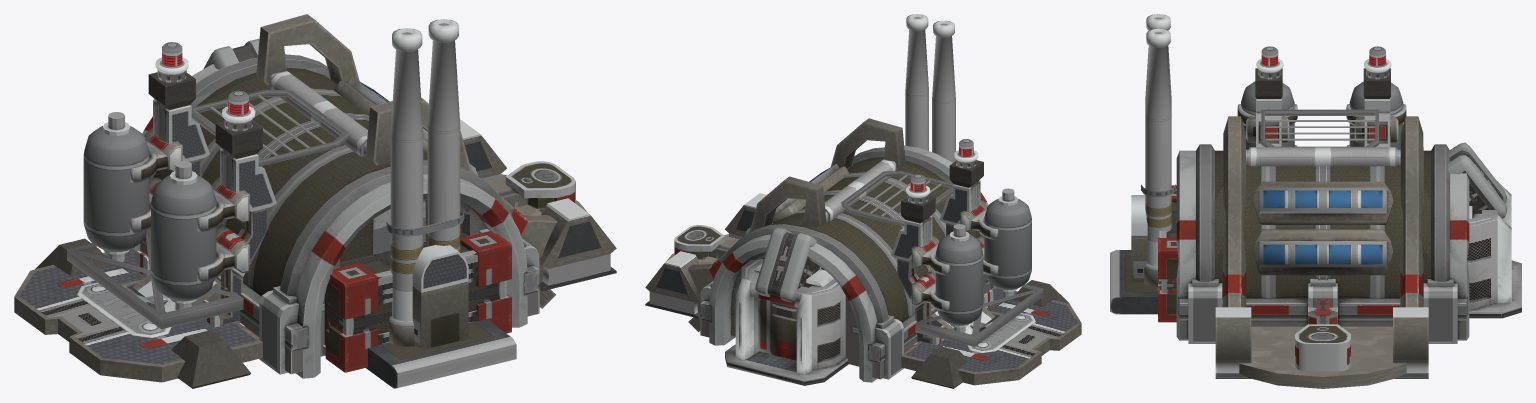
Rendered from Building - 10-ChD9XYcD.glb.
3 renders of one model, left to right at view 1: azimuth 30°, elevation 25°; view 2: azimuth 150°, elevation 25°; view 3: azimuth 270°, elevation 25°, orthographic. The views are drawn at different scales.
Visible parts, largest first — view 1: Main_form_08, Tube_08, Pad_08, block2, Extras_03b, Extras_03b (1), Fence_04, Pillar_01, Pylon_06, Pillar_02 (1), Detail_07, Column_04 (+18 smaller); view 2: Main_form_08, Door_02_frame, Pad_08, Tube_08, Extras_03b, Extras_03b (1), box4, Column_04, Pylon_06 (1), Pillar_02, Door_02, Detail_07 (+14 smaller); view 3: Main_form_08, Simlpe_form_08, Windows_01, Windows_01 (1), Tube_08, Door_02_frame, Column_04, Column_04 (1), Pylon_07, Pillar_02 (1), Detail_03, Pillar_02 (+13 smaller).
Boxes of the visible parts, bbox=[...] form: Main_form_08: bbox=[134, 54, 539, 378]; Tube_08: bbox=[390, 19, 460, 320]; Pad_08: bbox=[14, 248, 262, 382]; block2: bbox=[322, 229, 511, 372]; Extras_03b: bbox=[83, 126, 149, 251]; Extras_03b (1): bbox=[151, 175, 216, 301]; Fence_04: bbox=[366, 319, 516, 388]; Pillar_01: bbox=[412, 245, 468, 350]; Pylon_06: bbox=[203, 121, 276, 327]; Pillar_02 (1): bbox=[539, 198, 616, 290]; Detail_07: bbox=[67, 229, 243, 329]; Column_04: bbox=[256, 14, 359, 85]; Main_form_08: bbox=[700, 145, 995, 382]; Door_02_frame: bbox=[725, 258, 848, 385]; Pad_08: bbox=[901, 287, 1081, 385]; Tube_08: bbox=[905, 14, 955, 162]; Extras_03b: bbox=[935, 234, 983, 325]; Extras_03b (1): bbox=[984, 199, 1031, 290]; box4: bbox=[755, 227, 821, 302]; Column_04: bbox=[687, 176, 826, 331]; Pylon_06 (1): bbox=[891, 196, 944, 345]; Pillar_02: bbox=[645, 251, 700, 318]; Door_02: bbox=[758, 298, 797, 360]; Detail_07: bbox=[915, 274, 1043, 346]; Main_form_08: bbox=[1176, 144, 1469, 343]; Simlpe_form_08: bbox=[1239, 326, 1406, 388]; Windows_01: bbox=[1252, 229, 1393, 275]; Windows_01 (1): bbox=[1252, 181, 1393, 224]; Tube_08: bbox=[1145, 14, 1171, 265]; Door_02_frame: bbox=[1467, 181, 1521, 318]; Column_04: bbox=[1400, 116, 1423, 307]; Column_04 (1): bbox=[1223, 116, 1246, 307]; Pylon_07: bbox=[1295, 298, 1350, 371]; Pillar_02 (1): bbox=[1215, 307, 1251, 378]; Detail_03: bbox=[1261, 109, 1378, 147]; Pillar_02: bbox=[1393, 307, 1428, 378].
Bounding box in the file's own units: 6.23 × 4.02 × 5.25.
Materials: 13 (13 with a texture image).
